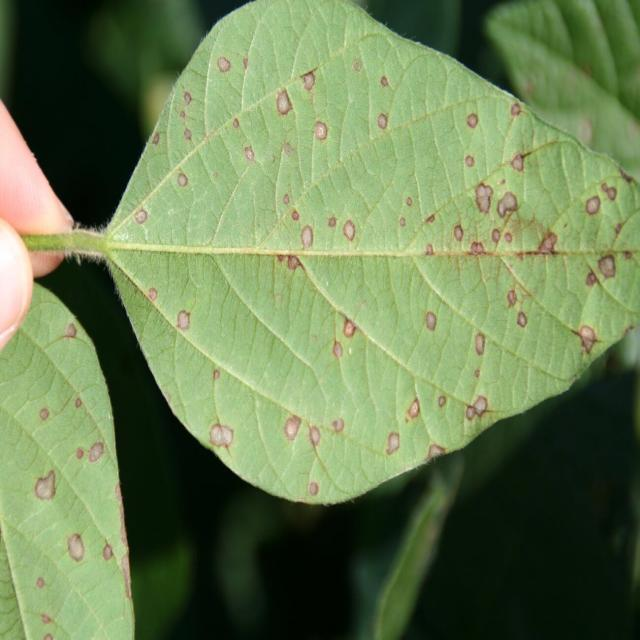leaf_spot: (28, 0, 640, 501), (0, 284, 134, 639)
